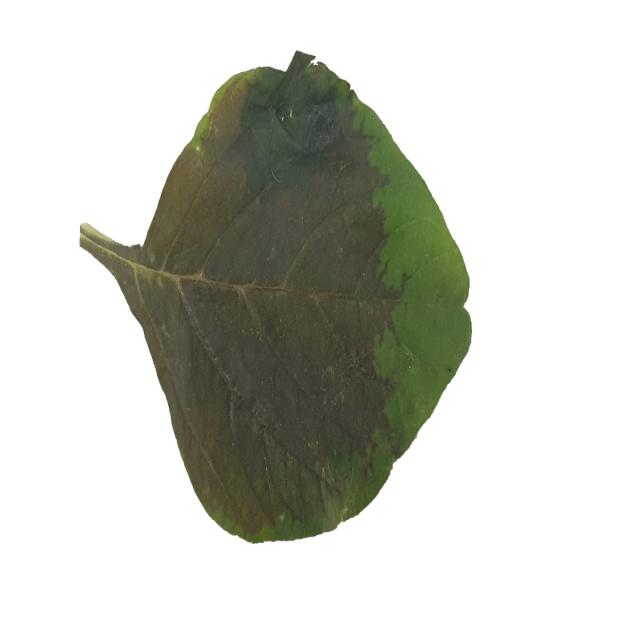Medicinal-Arive Dantu: (78, 41, 475, 546)
